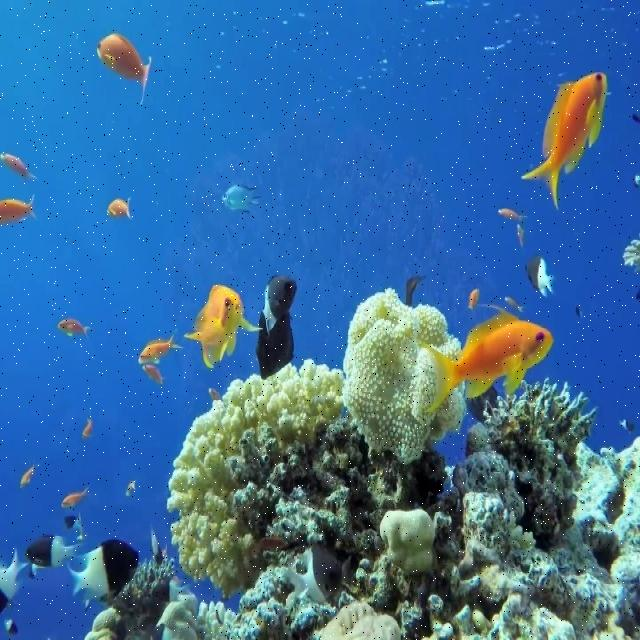fish: (424, 312, 554, 413), (524, 72, 606, 205), (186, 285, 258, 371), (255, 276, 297, 377), (67, 541, 140, 599), (97, 34, 152, 106), (29, 535, 82, 569), (0, 549, 25, 611), (139, 329, 183, 363), (524, 254, 556, 300), (222, 186, 263, 213), (0, 195, 37, 223), (61, 486, 89, 510), (57, 319, 92, 338), (105, 198, 132, 220)
reefs: (85, 289, 639, 639)
